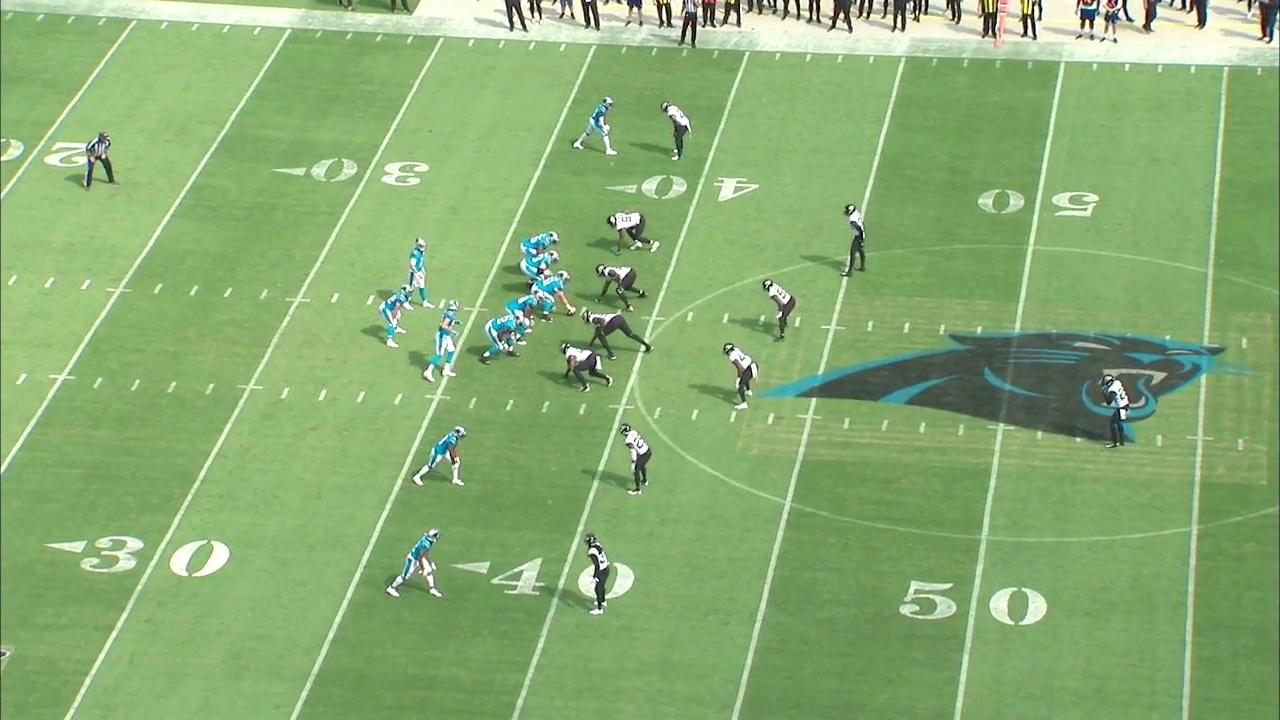player: (380, 528, 443, 604), (420, 299, 465, 382), (582, 309, 654, 358), (1093, 369, 1134, 454), (555, 336, 615, 391), (410, 427, 466, 485), (572, 97, 621, 158), (721, 339, 758, 412), (377, 283, 418, 348), (480, 311, 527, 366), (594, 263, 648, 310), (620, 422, 653, 497), (606, 207, 659, 253), (582, 534, 611, 617), (659, 99, 693, 165), (763, 279, 797, 342), (842, 200, 868, 279), (507, 288, 547, 337), (405, 236, 431, 309), (538, 271, 577, 319), (518, 249, 563, 280), (519, 232, 563, 254)
ref: (80, 128, 122, 194), (671, 0, 706, 54)
